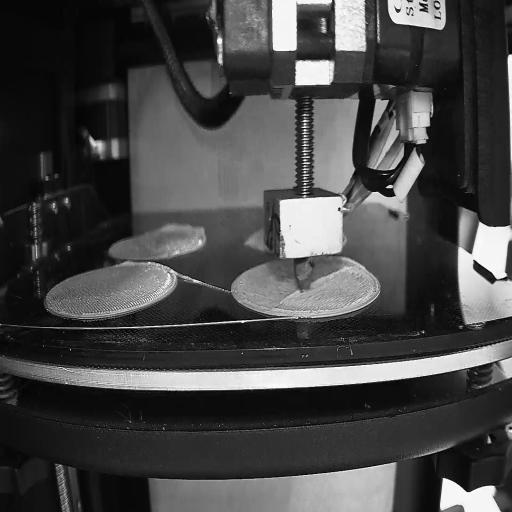over_extrusion: (162, 220, 208, 246), (312, 265, 348, 286), (281, 287, 300, 302), (118, 258, 136, 270)
